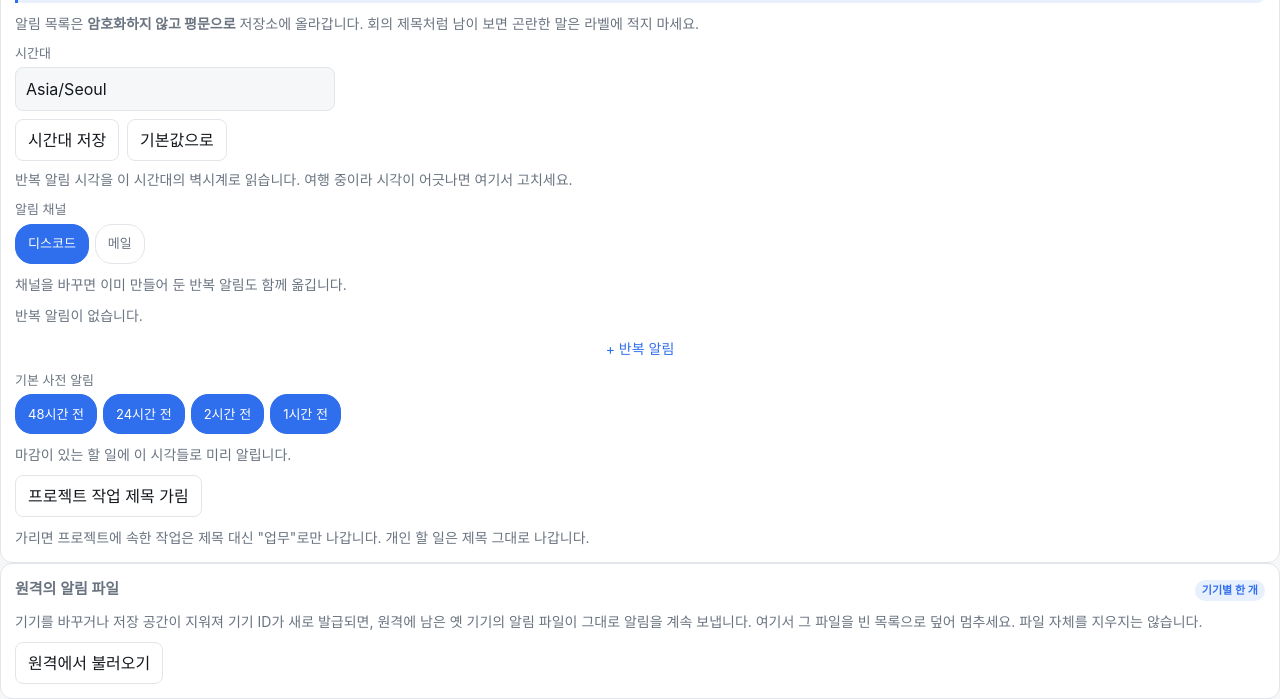
알림 설정 — 좀비 알림 파일 비우기 › 원격에 알림 파일이 없으면 비었다고 말한다
(page scrolled)
Click the button "원격에서 불러오기".
click(89, 663)  # box [15,642,163,684]
(page scrolled)
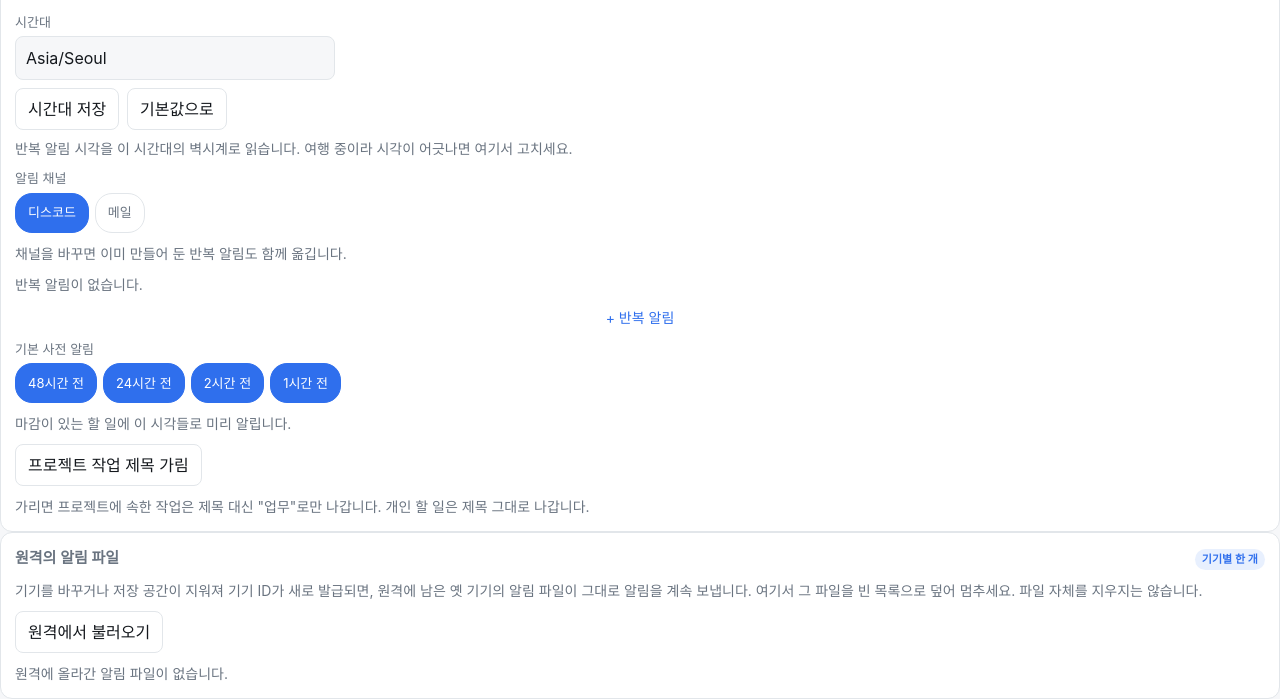
Result: the text "원격에 올라간 알림 파일이 없습니다." is shown at [15,665,228,682]
